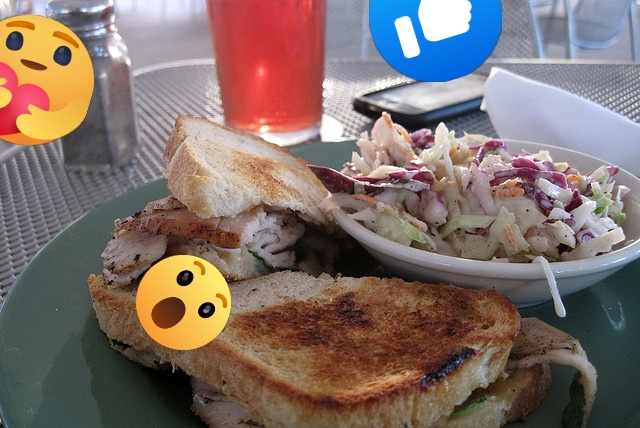care: (0, 15, 94, 145)
like: (369, 0, 502, 82)
wow: (136, 255, 231, 350)
